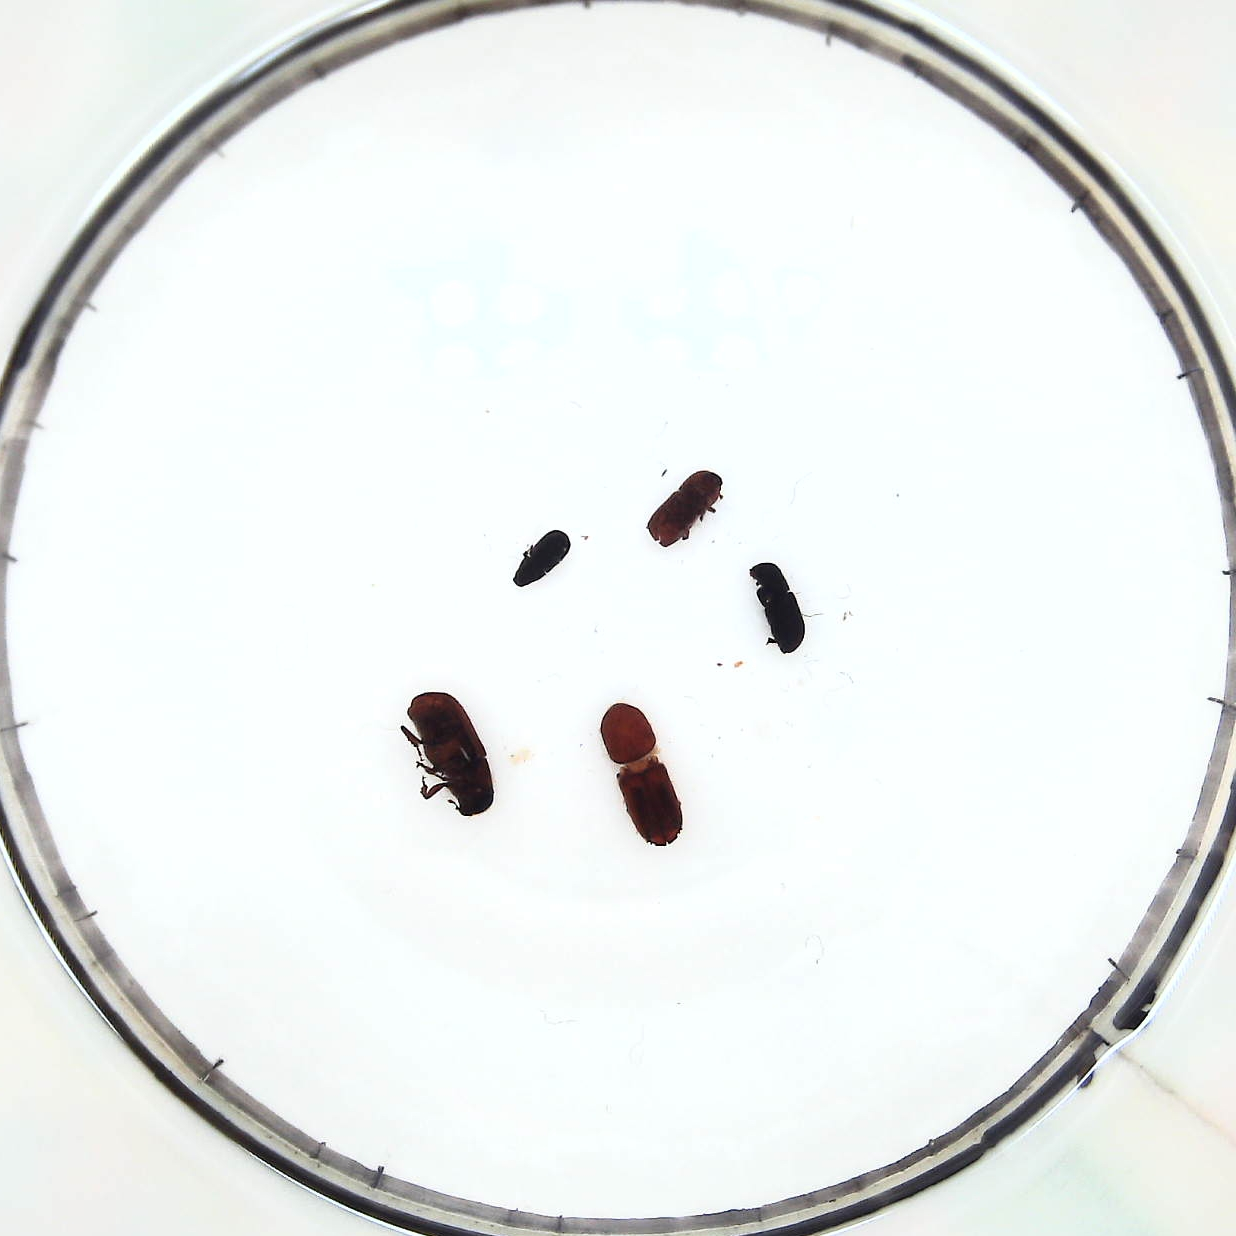Boerner: (596, 699, 683, 848)
Leconte: (400, 687, 500, 819)
Linnaeus: (642, 467, 724, 548)
armandi: (745, 559, 808, 654)
coleoptera: (512, 529, 570, 584)
